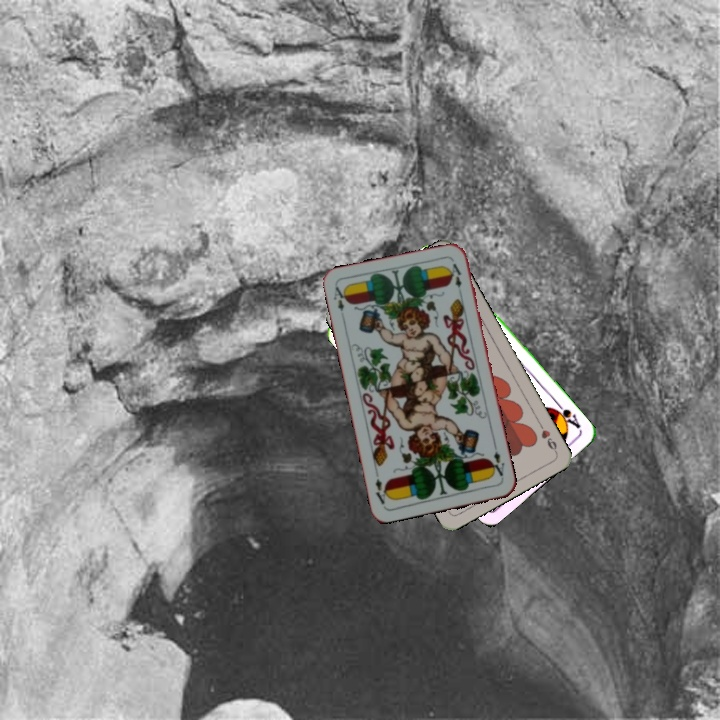EA: (329, 283, 350, 322), (486, 447, 507, 482)
H9: (534, 418, 560, 455)
SA: (549, 399, 584, 433)
